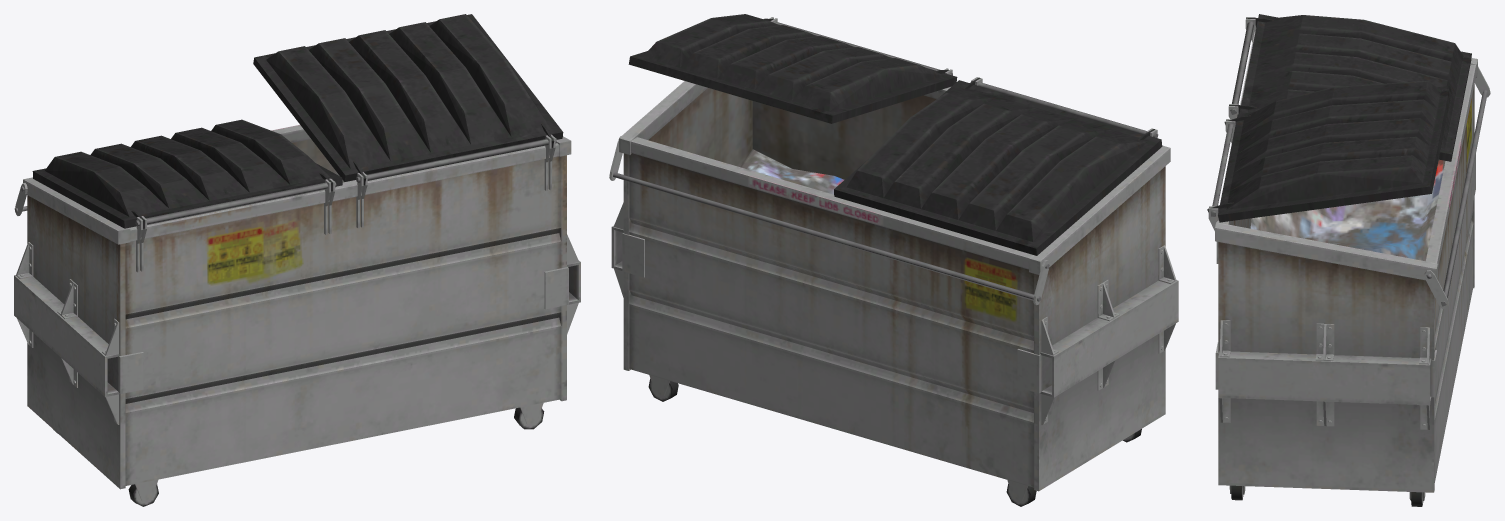
Rendered from ItemSpot.fbx.
3 renders of one model, left to right at view 1: azimuth 30°, elevation 25°; view 2: azimuth 150°, elevation 25°; view 3: azimuth 270°, elevation 25°, orthographic. The views are drawn at different scales.
Parts seen in each view (by area): view 1: ItemBox_Dumpster_01; view 2: ItemBox_Dumpster_01; view 3: ItemBox_Dumpster_01.
Boxes of the visible parts, bbox=[...] form: ItemBox_Dumpster_01: bbox=[14, 14, 580, 506]; ItemBox_Dumpster_01: bbox=[609, 14, 1178, 506]; ItemBox_Dumpster_01: bbox=[1207, 14, 1490, 506].
Bounding box in the file's own units: 2.48 × 1.74 × 1.3.
1 material, 1 textured.
